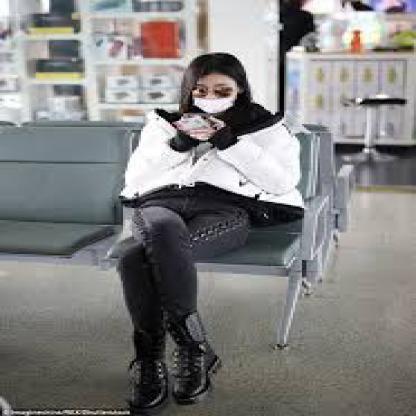Wearing_Mask: (183, 72, 237, 115)
